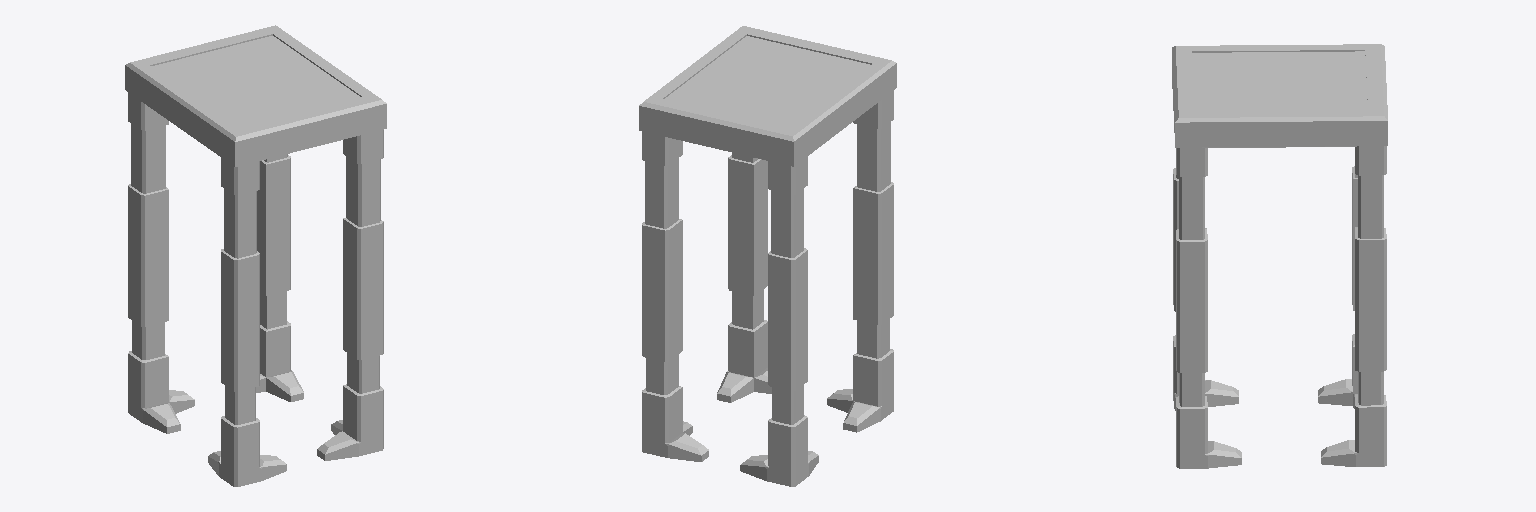
File: Final_TablePos1.obj
3 renders of one model, left to right at view 1: azimuth 30°, elevation 25°; view 2: azimuth 150°, elevation 25°; view 3: azimuth 270°, elevation 25°, orthographic.
Parts seen in each view (by area): view 1: TableTest:pPlane2; view 2: TableTest:pPlane2; view 3: TableTest:pPlane2.
Part boxes in pixels (bbox=[...]): TableTest:pPlane2: bbox=[125, 25, 386, 486]; TableTest:pPlane2: bbox=[639, 26, 896, 486]; TableTest:pPlane2: bbox=[1172, 44, 1387, 468].
Size of the model in its own units: 49.51 by 106 by 59.19.